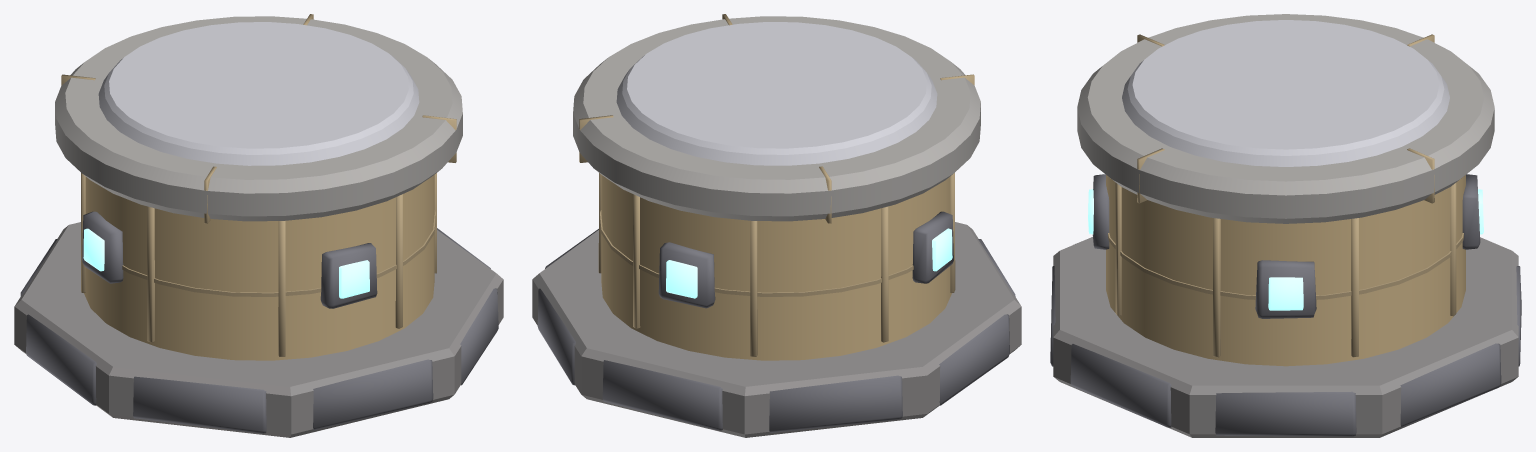
The model's file is OBJ13_graph_node.glb.
3 renders of one model, left to right at view 1: azimuth 30°, elevation 25°; view 2: azimuth 150°, elevation 25°; view 3: azimuth 270°, elevation 25°, orthographic. The views are drawn at different scales.
Visible parts, largest first — view 1: Pillar, TopDisk, TopRim, Foot, FootFaces, PillarSeams, SocketFrame_0, SocketFrame_3, SocketGlow_0, SocketGlow_3, TopRimSeams; view 2: Pillar, TopDisk, TopRim, Foot, FootFaces, PillarSeams, SocketFrame_2, SocketFrame_3, SocketGlow_2, SocketGlow_3, TopRimSeams; view 3: Pillar, TopDisk, TopRim, Foot, FootFaces, PillarSeams, SocketFrame_1, SocketGlow_1, SocketFrame_2, SocketFrame_0, TopRimSeams.
Boxes of the visible parts, bbox=[...] form: Pillar: bbox=[84, 175, 434, 360]; TopDisk: bbox=[98, 22, 419, 165]; TopRim: bbox=[55, 16, 462, 221]; Foot: bbox=[14, 222, 503, 437]; FootFaces: bbox=[20, 228, 498, 433]; PillarSeams: bbox=[81, 173, 436, 356]; SocketFrame_0: bbox=[320, 243, 377, 308]; SocketFrame_3: bbox=[82, 211, 123, 283]; SocketGlow_0: bbox=[339, 260, 369, 298]; SocketGlow_3: bbox=[83, 228, 104, 271]; TopRimSeams: bbox=[61, 14, 456, 223]; Pillar: bbox=[601, 175, 951, 360]; TopDisk: bbox=[616, 22, 937, 165]; TopRim: bbox=[573, 16, 980, 221]; Foot: bbox=[532, 222, 1021, 437]; FootFaces: bbox=[537, 229, 1015, 432]; PillarSeams: bbox=[598, 173, 955, 356]; SocketFrame_2: bbox=[658, 242, 715, 308]; SocketFrame_3: bbox=[912, 211, 953, 283]; SocketGlow_2: bbox=[666, 260, 697, 298]; SocketGlow_3: bbox=[932, 228, 952, 271]; TopRimSeams: bbox=[579, 14, 974, 223]; Pillar: bbox=[1106, 175, 1465, 366]; TopDisk: bbox=[1122, 20, 1449, 166]; TopRim: bbox=[1077, 14, 1494, 223]; Foot: bbox=[1053, 237, 1518, 437]; FootFaces: bbox=[1050, 266, 1521, 436]; PillarSeams: bbox=[1108, 183, 1463, 357]; SocketFrame_1: bbox=[1255, 260, 1316, 318]; SocketGlow_1: bbox=[1268, 277, 1303, 310]; SocketFrame_2: bbox=[1462, 174, 1480, 249]; SocketFrame_0: bbox=[1092, 174, 1109, 249]; TopRimSeams: bbox=[1137, 34, 1434, 203].
Bounding box in the file's own units: 1.31 × 0.79 × 1.31.
